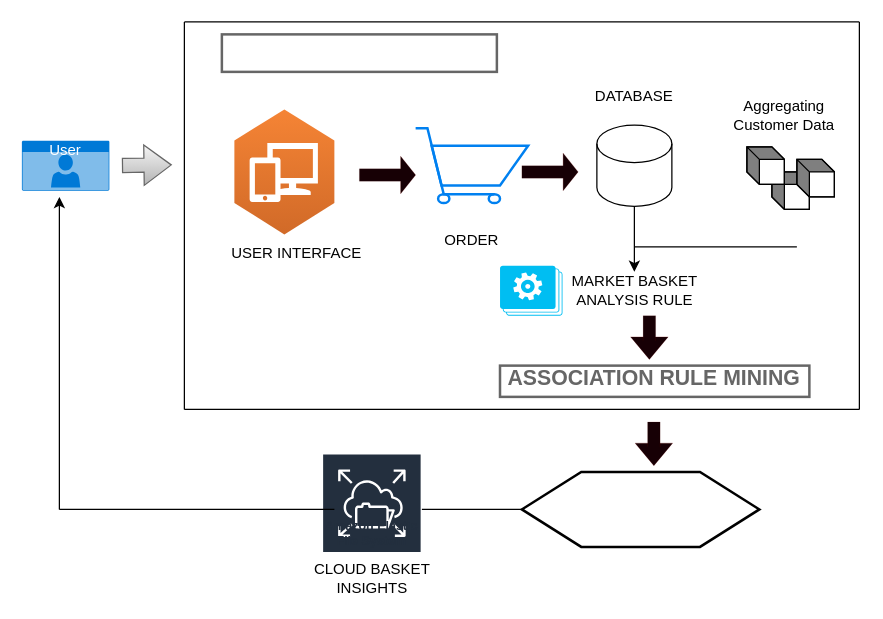
The diagram is 883 pixels wide and 619 high, and some of its shapes have lost their labels. Each missing label, with the centre of its shape:
"FREQUENT ITEM-SET GENERATED" goes at point (640, 509).
"ITEM RULE GENERATION" goes at point (359, 52).
